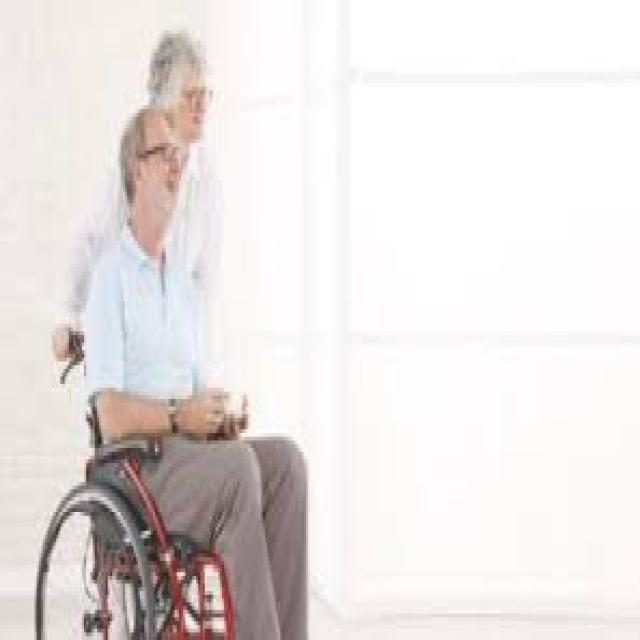wheelchairs: (30, 320, 242, 636)
